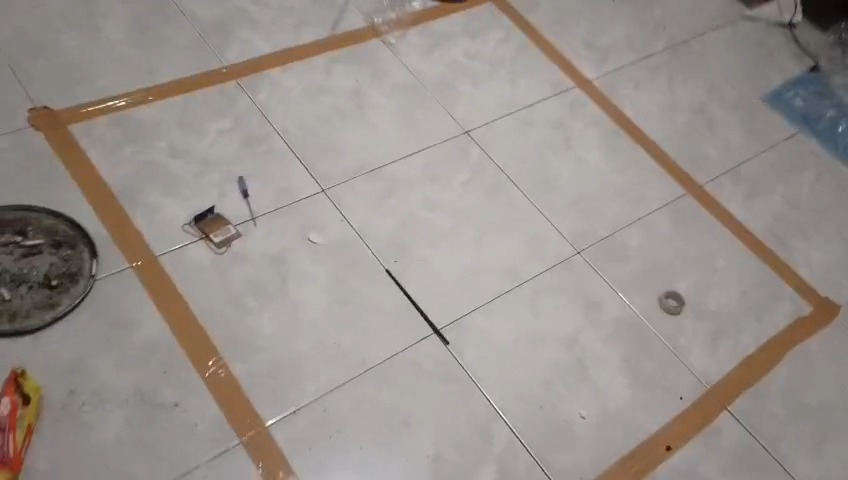floor marking: (491, 0, 840, 478), (29, 28, 376, 478)
